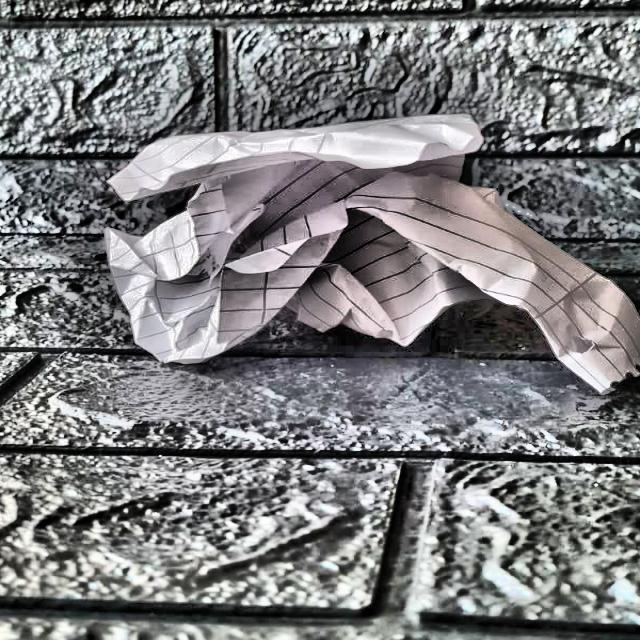paper: (104, 115, 640, 411)
